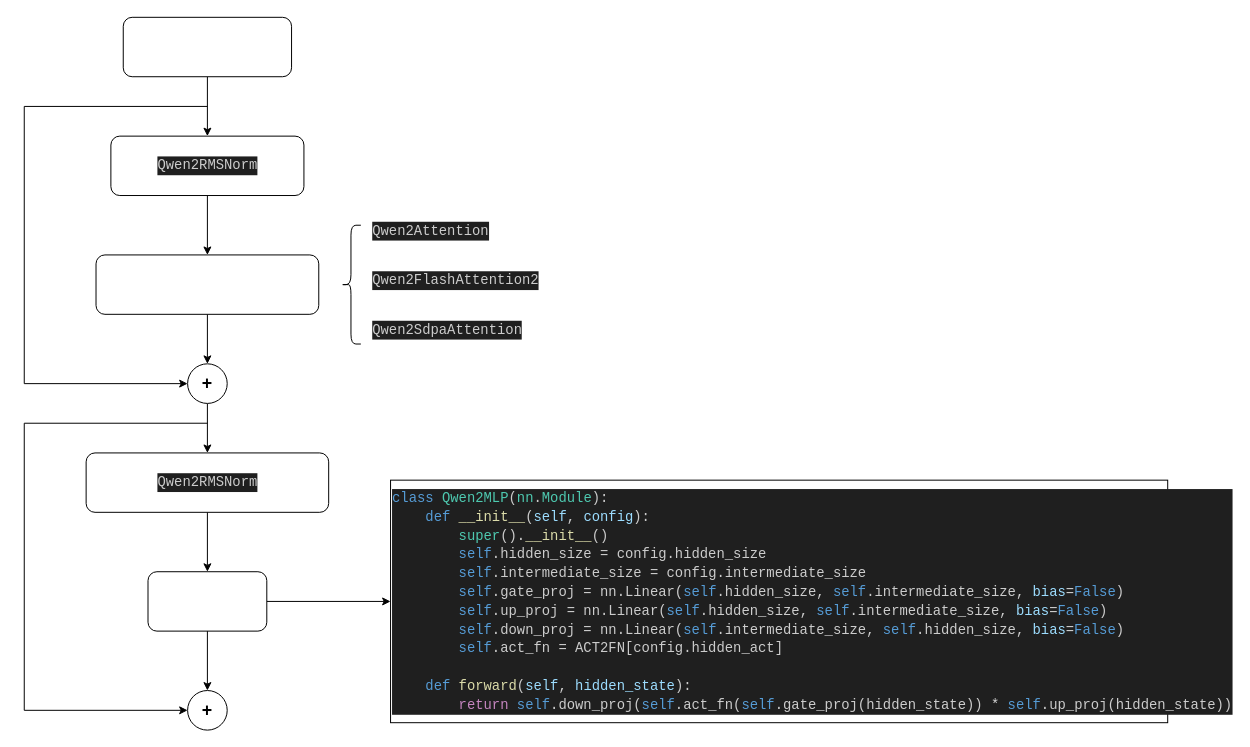
This 1250x747 diagram has some shape labels left out. Here are the shapes that lost their labels. From the top down, the centre of each, then its label:
At (x=207, y=46): "Qwen2DecoderLayer".
At (x=207, y=284): "QWEN2_ATTENTION_CLASSES".
At (x=207, y=601): "Qwen2MLP".
